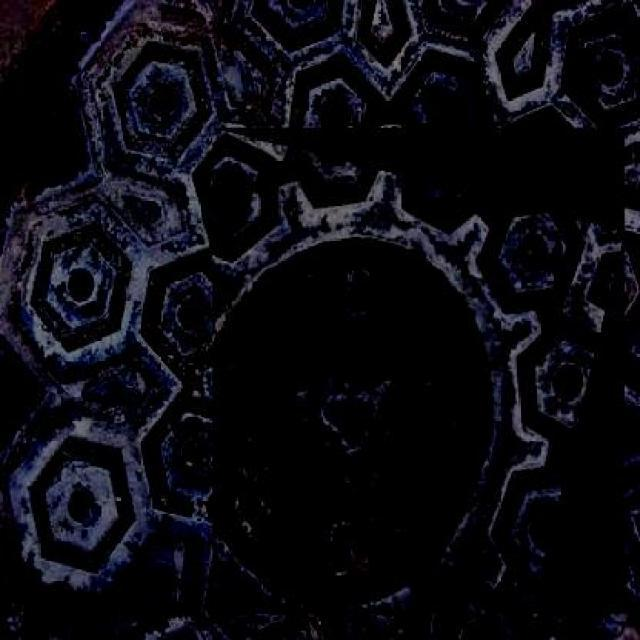Manhole: (0, 1, 625, 614)
